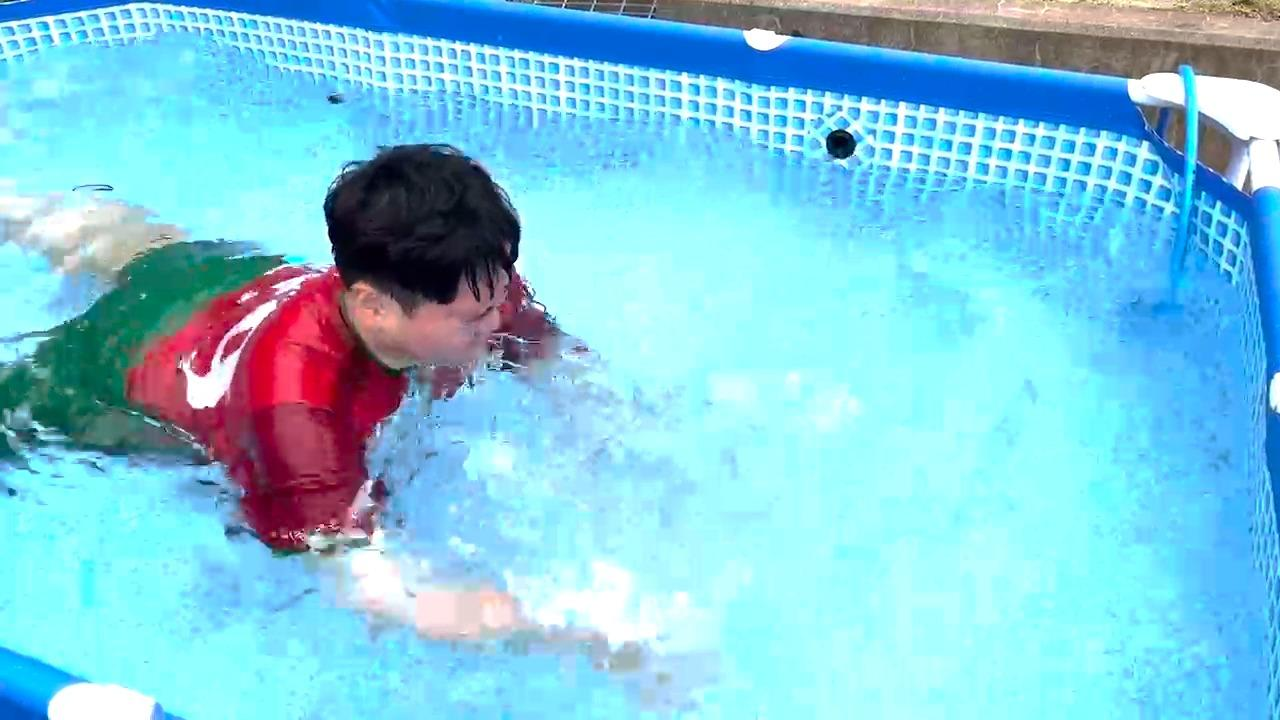Drowning: (0, 86, 772, 685)
